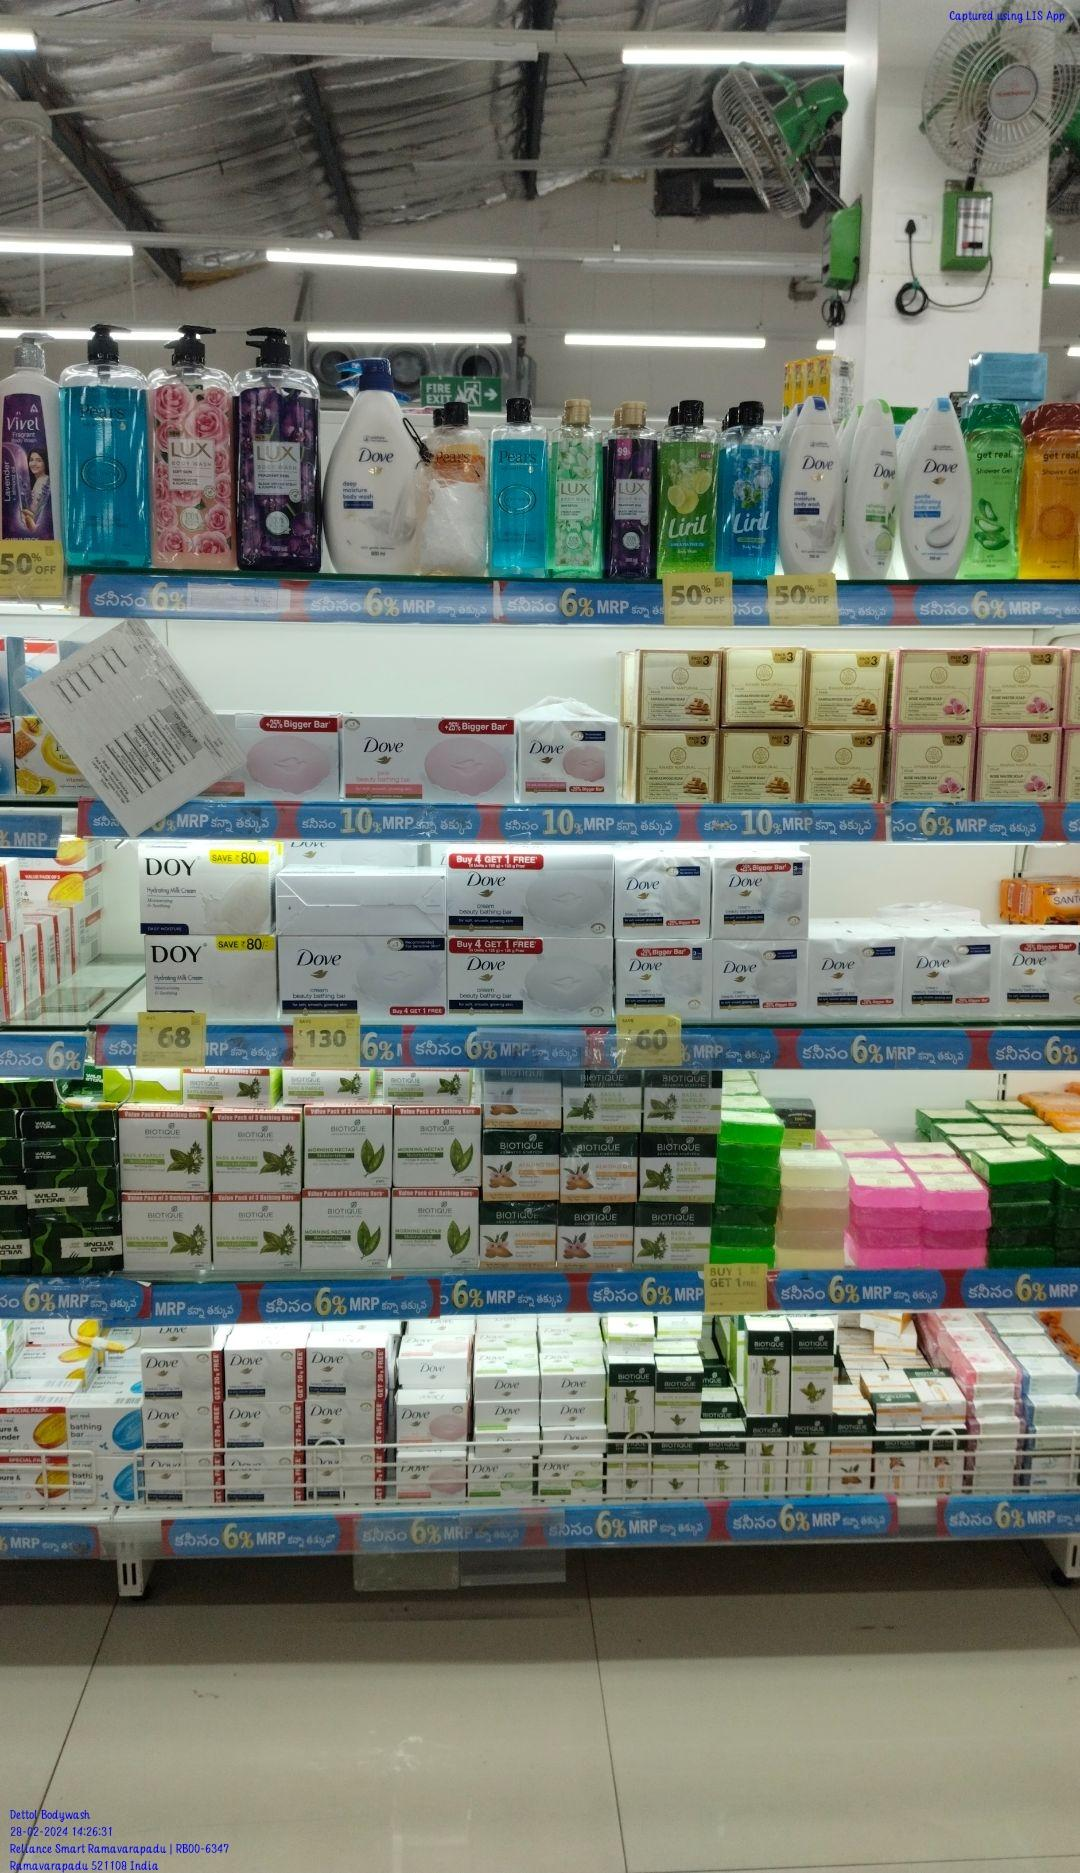Dove_Deep_Moisture_Body_Wash_250ML: (780, 399, 842, 589)
Dove_Gentle_Exfoliating_Body_Wash_250ML: (901, 399, 968, 581)
Dove_Refreshing_Body_Wash_250ML: (852, 392, 897, 576)
Get_Real_Shower_Gel_Moisturising_Glycerin_300ML: (1025, 400, 1080, 580)
Liril_Cooling_Mint_Body_Wash_250ML: (720, 397, 778, 583)
Liril_Lime_and_Tea_Tree_Oil_Body_Wash_250ML: (661, 399, 715, 580)
Lux_Black_Orchid_Scent_and_Juniper_Oil_Body_Wash_245ML: (608, 401, 658, 584)
Lux_Body_Wash_Skin_Detox_Freesia_Scent_and_Alove_Vera_245ML: (552, 395, 603, 579)
Pears_Pure_Glycerin_and_Mint_Extracts_Body_Wash_250ML: (487, 392, 548, 580)
